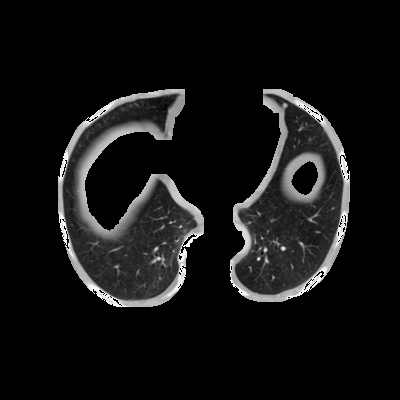PN: (283, 103, 287, 107)
